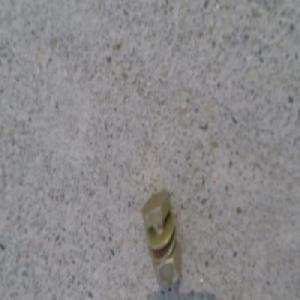BoltNutSet: (137, 186, 178, 281)
